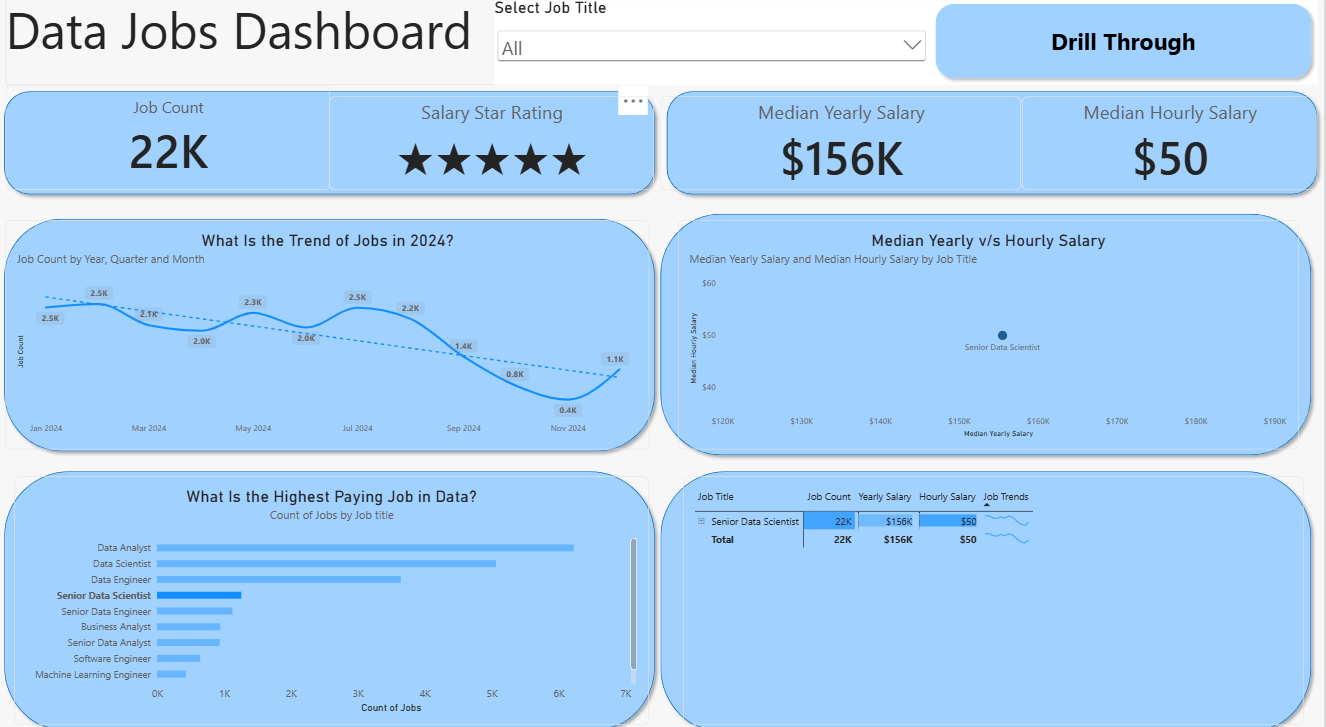

Layout of this report page (visuals, bound fields, positions):
{"tool":"powerbi","page":{"name":"Data Jobs Dashboard","canvas":[1920,1080],"ordinal":0},"visuals":[{"type":"shape","box":[0,130,960,167.5],"z":0,"group":"g1"},{"type":"group","id":"g1","title":"Background","box":[0,130,1920,948],"z":0},{"type":"textbox","box":[10,0,932.5,130],"z":1000},{"type":"shape","box":[960,130,960,167.5],"z":1000,"group":"g1"},{"type":"slicer","title":"Select Job Title","fields":{"Values":["job_postings_flat.job_title_short"]},"box":[718,4,630,126],"z":2000},{"type":"shape","box":[0,315,960,355],"z":2000,"group":"g1"},{"type":"cardVisual","fields":{"Data":["CountNonNull(job_postings_flat.job_title_short)"]},"box":[10,130,470,152],"z":3000},{"type":"shape","box":[950,307.5,960,367.5],"z":3000,"group":"g1"},{"type":"cardVisual","fields":{"Data":["job_postings_flat.Median Average Salary"]},"box":[480,146,470,136],"z":4000},{"type":"shape","box":[0,680,960,396],"z":4000,"group":"g1"},{"type":"cardVisual","fields":{"Data":["Median(job_postings_flat.salary_year_avg)"]},"box":[960,146,522,136],"z":5000},{"type":"shape","box":[950,680,960,398],"z":5000,"group":"g1"},{"type":"cardVisual","fields":{"Data":["Median(job_postings_flat.salary_hour_avg)"]},"box":[1482,146,428,136],"z":6000},{"type":"lineChart","title":"What Is the Trend of Jobs in 2024?","fields":{"Category":["job_postings_flat.job_posted_date.Variation.Date Hierarchy.Year","job_postings_flat.job_posted_date.Variation.Date Hierarchy.Quarter","job_postings_flat.job_posted_date.Variation.Date Hierarchy.Month","job_postings_flat.job_posted_date.Variation.Date Hierarchy.Day"],"Y":["CountNonNull(job_postings_flat.job_title_short)"]},"box":[10,326,932,332],"z":7000},{"type":"barChart","title":"What Is the Highest Paying Job in Data?","fields":{"Category":["job_postings_flat.job_title_short"],"Y":["CountNonNull(job_postings_flat.salary_year_avg)"]},"box":[24,696,918,360],"z":8000},{"type":"scatterChart","title":"Median Yearly v/s Hourly Salary","fields":{"Category":["job_postings_flat.job_title_short"],"X":["Median(job_postings_flat.salary_year_avg)"],"Y":["Median(job_postings_flat.salary_hour_avg)"]},"box":[984,326,898,332],"z":9000},{"type":"pivotTable","fields":{"Rows":["job_postings_flat.job_title_short","job_postings_flat.job_posted_date.Variation.Date Hierarchy.Quarter"],"Values":["CountNonNull(job_postings_flat.job_title_short)","Median(job_postings_flat.salary_year_avg)","Median(job_postings_flat.salary_hour_avg)","SparklineData(CountNonNull(job_postings_flat.job_title_short)_[job_postings_flat.job_posted_date.Variation.Date Hierarch"]},"box":[992,696,898,360],"z":10000},{"type":"actionButton","box":[1348,4,562,126],"z":11000}]}

Visuals, with their boxes in screenshot pixels (x1, y1, x2, y2), scaled from the page's 1920x1080 canvas onto the 1326x727 screenshot:
shape: [0, 88, 663, 200]
"Background" group: [0, 88, 1325, 726]
textbox: [7, 0, 651, 88]
shape: [663, 88, 1325, 200]
"Select Job Title" slicer: [496, 3, 931, 88]
shape: [0, 212, 663, 451]
cardVisual - CountNonNull(job_postings_flat.job_title_short): [7, 88, 332, 190]
shape: [656, 207, 1319, 454]
cardVisual - job_postings_flat.Median Average Salary: [332, 98, 656, 190]
shape: [0, 458, 663, 724]
cardVisual - Median(job_postings_flat.salary_year_avg): [663, 98, 1024, 190]
shape: [656, 458, 1319, 726]
cardVisual - Median(job_postings_flat.salary_hour_avg): [1024, 98, 1319, 190]
"What Is the Trend of Jobs in 2024?" lineChart: [7, 219, 651, 443]
"What Is the Highest Paying Job in Data?" barChart: [17, 469, 651, 711]
"Median Yearly v/s Hourly Salary" scatterChart: [680, 219, 1300, 443]
pivotTable - job_postings_flat.job_title_short x job_postings_flat.job_posted_date.Variation.Date Hierarchy.Quarter: [685, 469, 1305, 711]
actionButton: [931, 3, 1319, 88]
